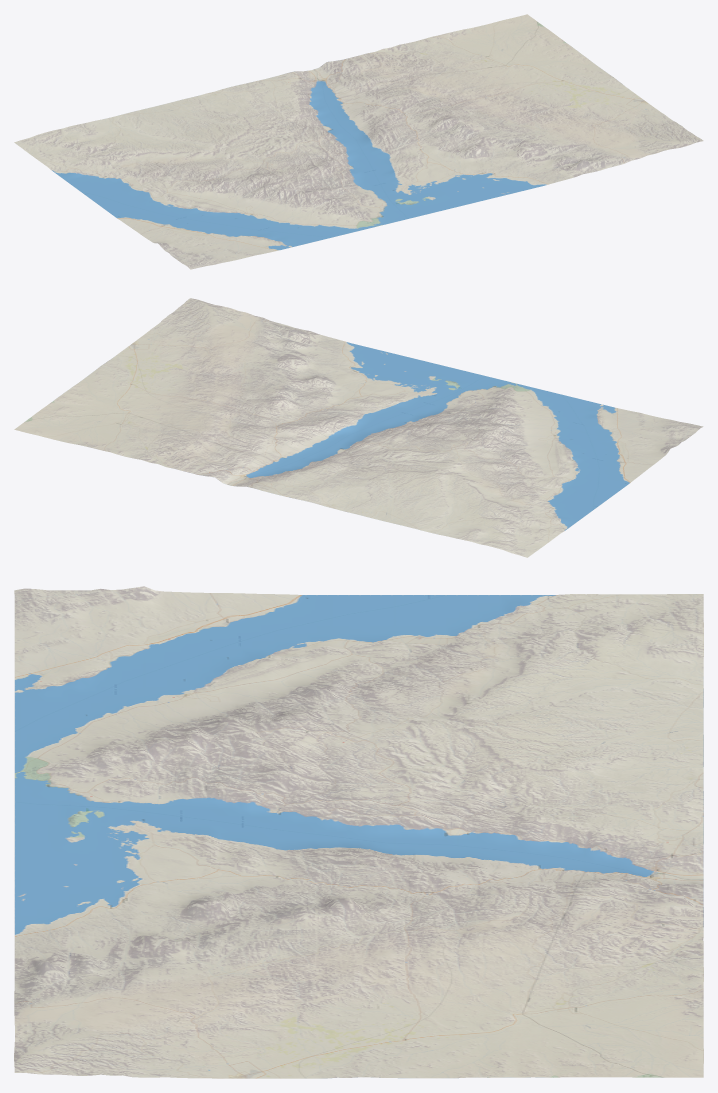
Rendered from redsea.glb.
The picture shows the model from 3 angles, top to bottom: view 1: azimuth 30°, elevation 25°; view 2: azimuth 150°, elevation 25°; view 3: azimuth 270°, elevation 25°; orthographic projection. The views are drawn at different scales.
Parts seen in each view (by area): view 1: skfb_offset; view 2: skfb_offset; view 3: skfb_offset.
Boxes of the visible parts, bbox=[...] form: skfb_offset: bbox=[14, 14, 703, 269]; skfb_offset: bbox=[14, 298, 703, 557]; skfb_offset: bbox=[14, 586, 703, 1078].
Bounding box in the file's own units: 411010 × 7287 × 244917.
1 material, 1 textured.
